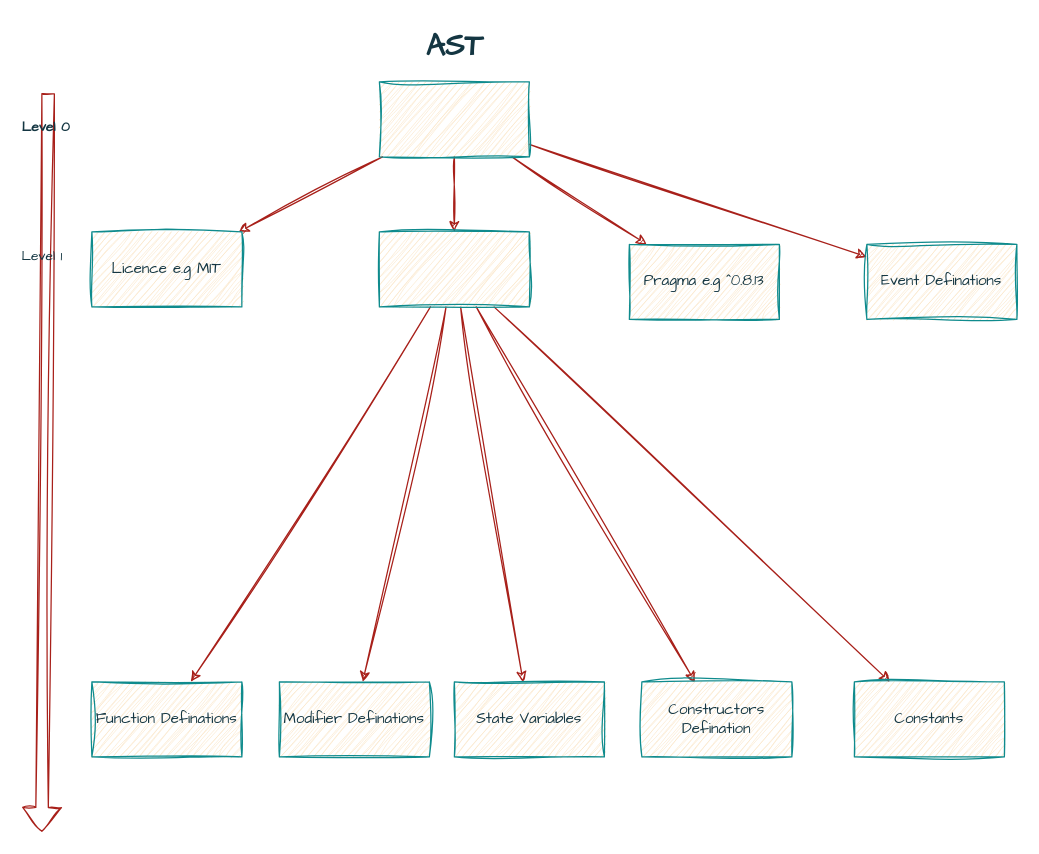
The diagram is 1039 pixels wide and 854 high, and some of its shapes have lost their labels. The shapes that lost their labels are listed below. From the top down, each one's box as (x1, y1, x2, y2) in pixels, then its label:
(378, 81, 529, 157): Source Unit
(378, 231, 529, 307): Contract Defination
